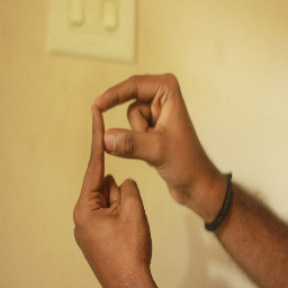P: (61, 69, 195, 228)
